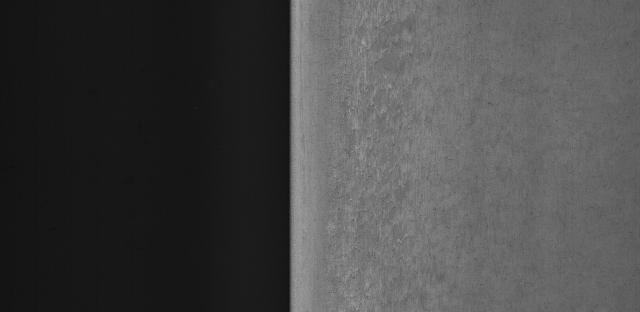silk_spot: (333, 21, 456, 296)
